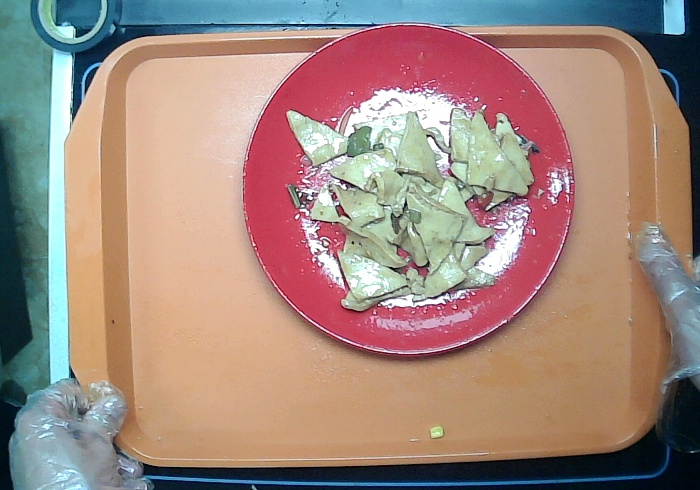HZYJPL-Hong_Se_Yuan_Pan: (241, 20, 576, 358)
